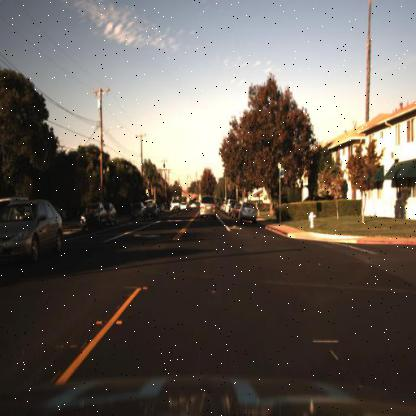car: (0, 198, 66, 274), (79, 200, 107, 236), (196, 190, 223, 222), (239, 201, 257, 226), (143, 200, 162, 223), (103, 199, 119, 226), (106, 199, 117, 226), (231, 202, 240, 222)
